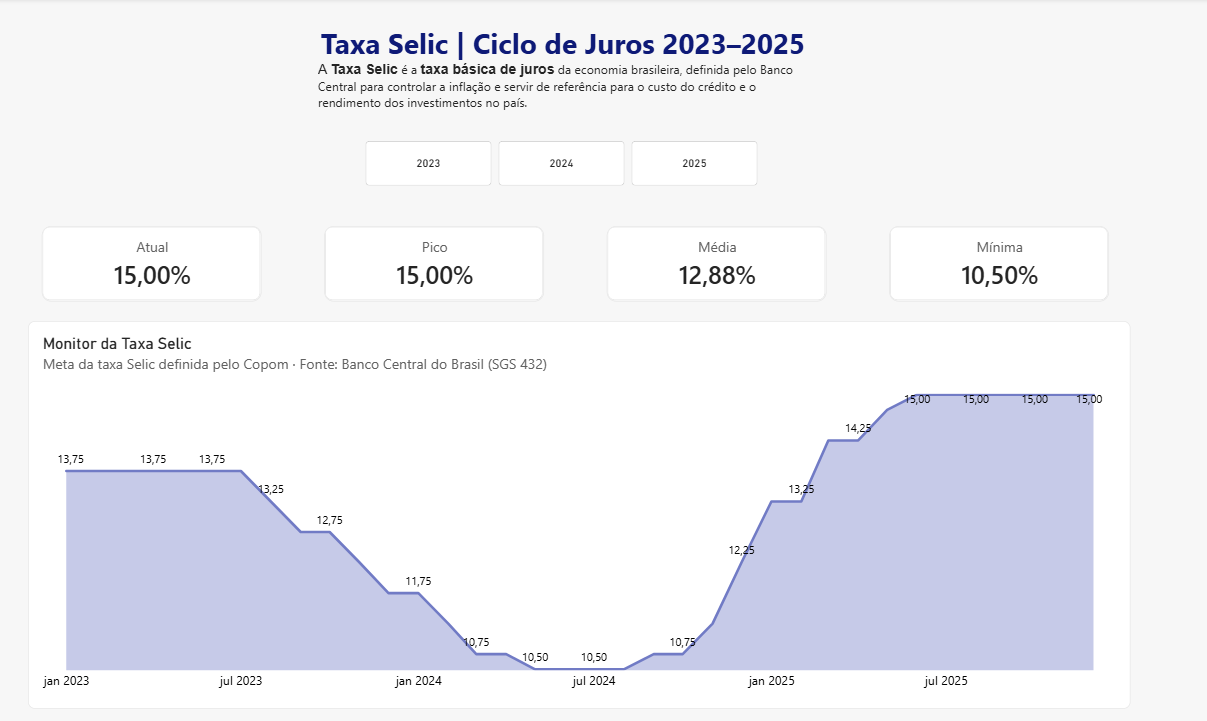

What the dashboard file says about the page in this screenshot:
{"tool":"powerbi","page":{"name":"Página 1","canvas":[1920,1080],"ordinal":0},"visuals":[{"type":"lineChart","title":"Monitor da Taxa Selic","fields":{"Category":["selic.Mês.Variação.Hierarquia de datas.Ano","selic.Mês.Variação.Hierarquia de datas.Mês"],"Y":["selic.Selic Atual"]},"box":[285,416.7,1260,443.3],"z":0},{"type":"cardVisual","fields":{"Data":["Max(selic.valor)"]},"box":[624.5,308.3,251.1,86.7],"z":1000},{"type":"textbox","box":[617.1,76.9,560,112],"z":2000},{"type":"cardVisual","fields":{"Data":["Min(selic.valor)"]},"box":[1270,308.3,251,86.7],"z":3000},{"type":"cardVisual","fields":{"Data":["Avg(selic.valor)"]},"box":[947.3,308.3,251,86.7],"z":4000},{"type":"advancedSlicerVisual","fields":{"Values":["selic.data.Variação.Hierarquia de datas.Ano"]},"box":[672.1,210.9,450,51],"z":5000},{"type":"cardVisual","fields":{"Data":["Max(selic.valor)"]},"box":[301.7,308.3,251.1,86.7],"z":5001}]}

Visuals, with their boxes on the page's 1920x1080 design canvas (x1, y1, x2, y2). These are canvas units, not pixel positions in the 1207x721 screenshot, which may show the page scaled, cropped or inside an application window:
"Monitor da Taxa Selic" lineChart: 285, 417, 1545, 860
cardVisual - Max(selic.valor): 624, 308, 876, 395
textbox: 617, 77, 1177, 189
cardVisual - Min(selic.valor): 1270, 308, 1521, 395
cardVisual - Avg(selic.valor): 947, 308, 1198, 395
advancedSlicerVisual - selic.data.Variação.Hierarquia de datas.Ano: 672, 211, 1122, 262
cardVisual - Max(selic.valor): 302, 308, 553, 395
